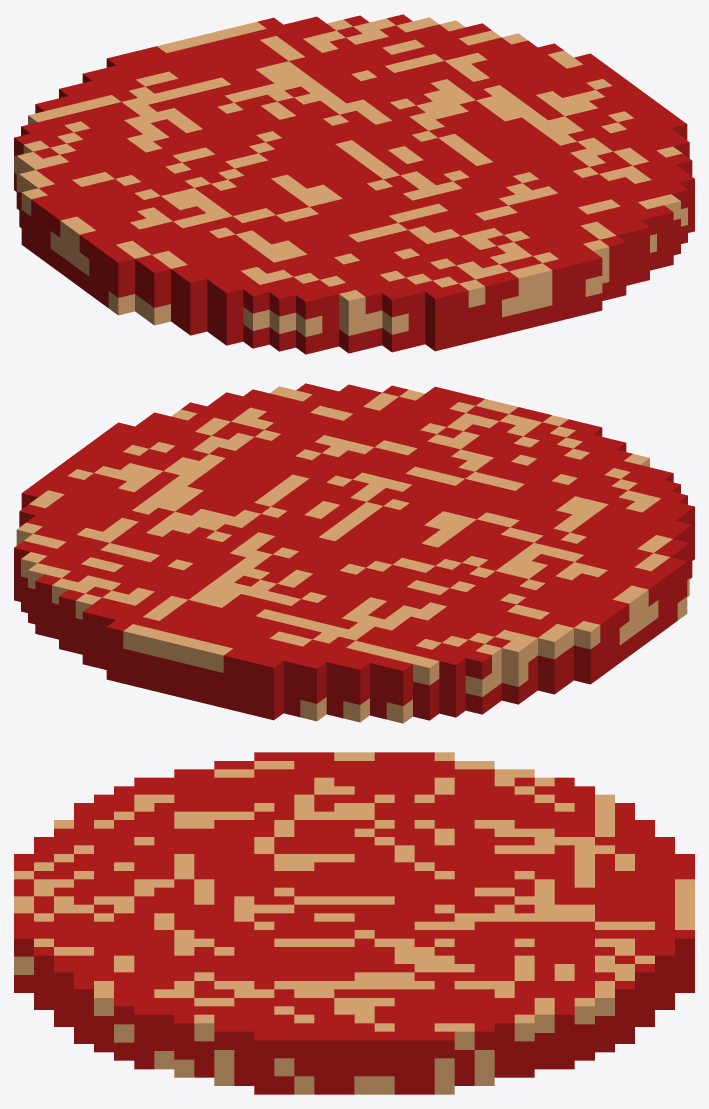
Rendered from Burger.obj.
3 renders of one model, top to bottom at view 1: azimuth 30°, elevation 25°; view 2: azimuth 150°, elevation 25°; view 3: azimuth 270°, elevation 25°, orthographic. The views are drawn at different scales.
Bounding box in the file's own units: 3.4 × 0.3 × 3.4.
Materials: 1 (1 with a texture image).
